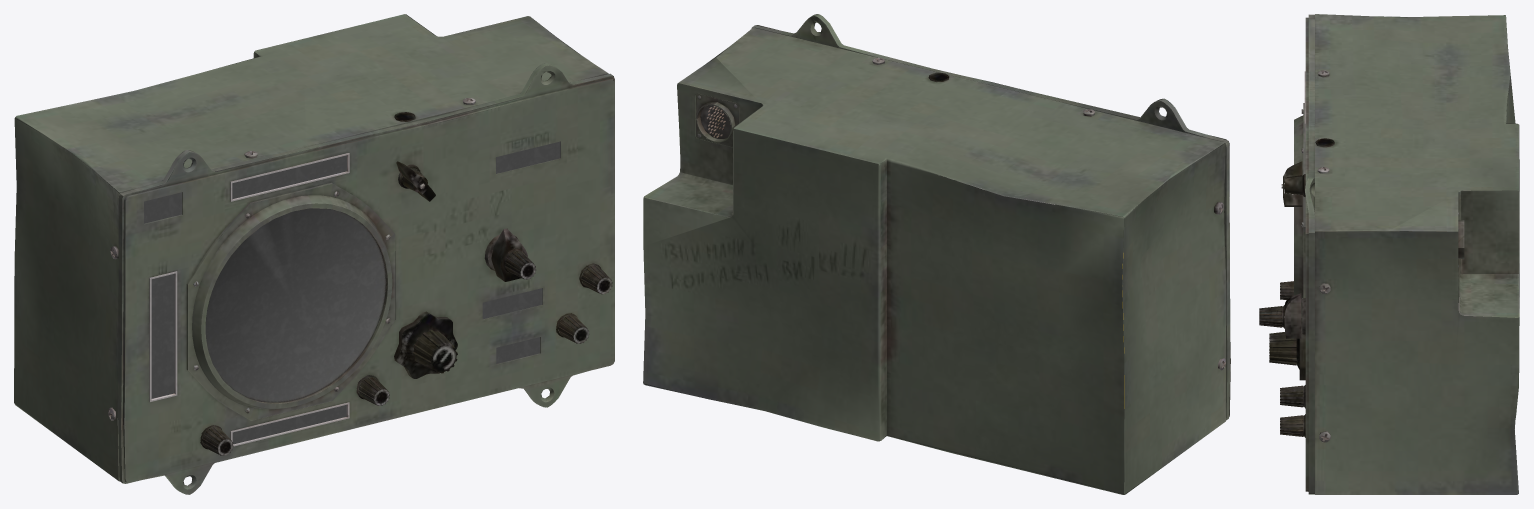
File: ph_spacecraft_instrument.gltf
3 views of the same model, side by side, from view 1: azimuth 30°, elevation 25°; view 2: azimuth 150°, elevation 25°; view 3: azimuth 270°, elevation 25° (orthographic). The views are drawn at different scales.
Visible parts, largest first — view 1: Body; view 2: Body; view 3: Body.
Part boxes in pixels (left/top/right/bottom): Body: left=14, top=14, right=614, bottom=494; Body: left=643, top=14, right=1230, bottom=494; Body: left=1259, top=14, right=1519, bottom=494.
Bounding box in the file's own units: 0.4103 × 0.2701 × 0.2044.
2 materials, 2 textured.
